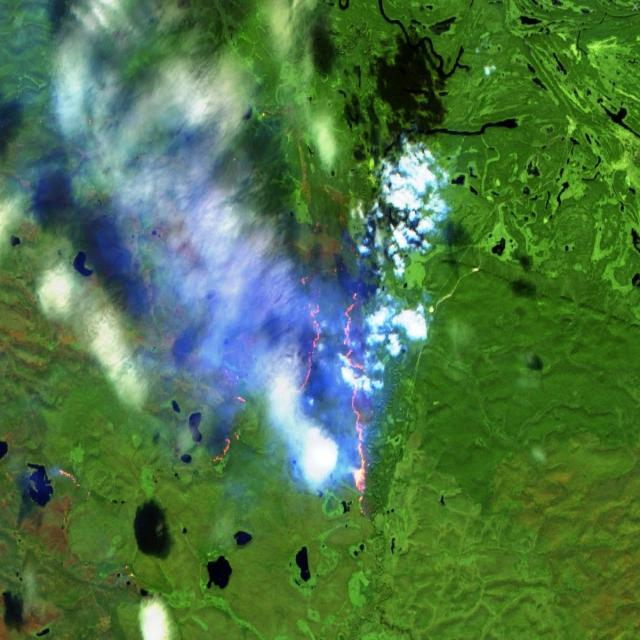fire: (208, 269, 385, 522)
